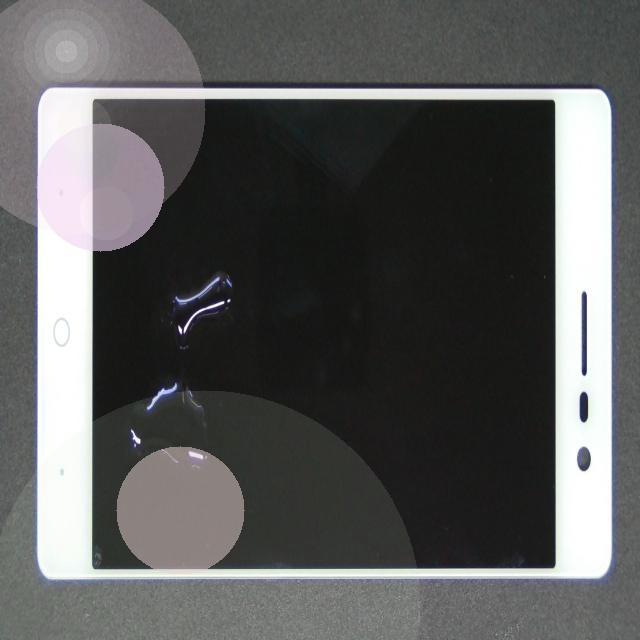oil: (115, 213, 287, 589), (127, 137, 344, 396)
